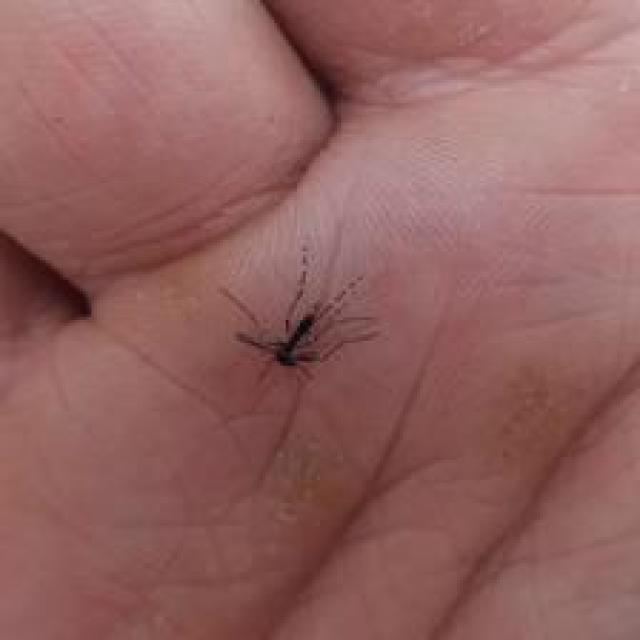Aedes albopictus: (217, 243, 383, 386)
